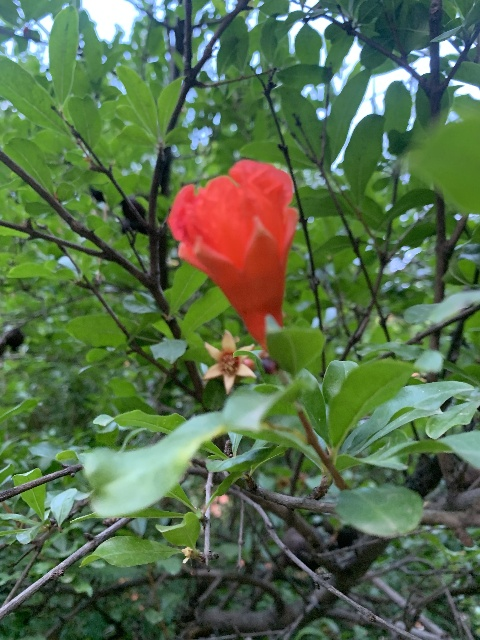early-fruit: (202, 330, 256, 394)
flower: (165, 159, 300, 351)
